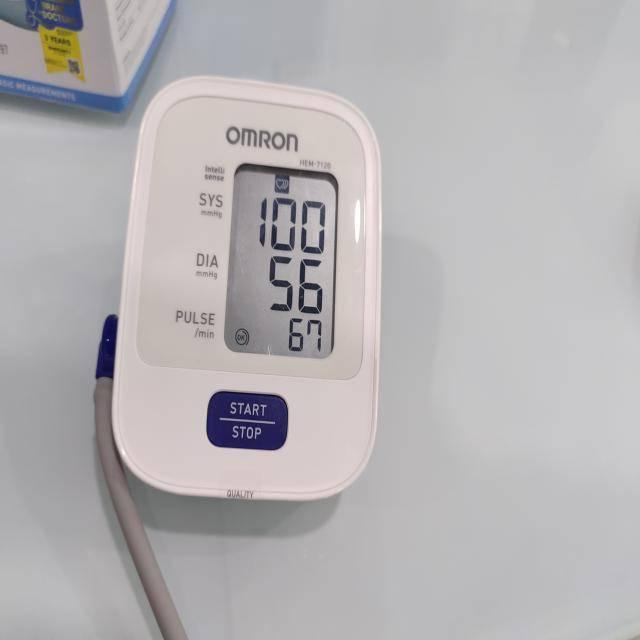bp: (109, 77, 384, 506)
